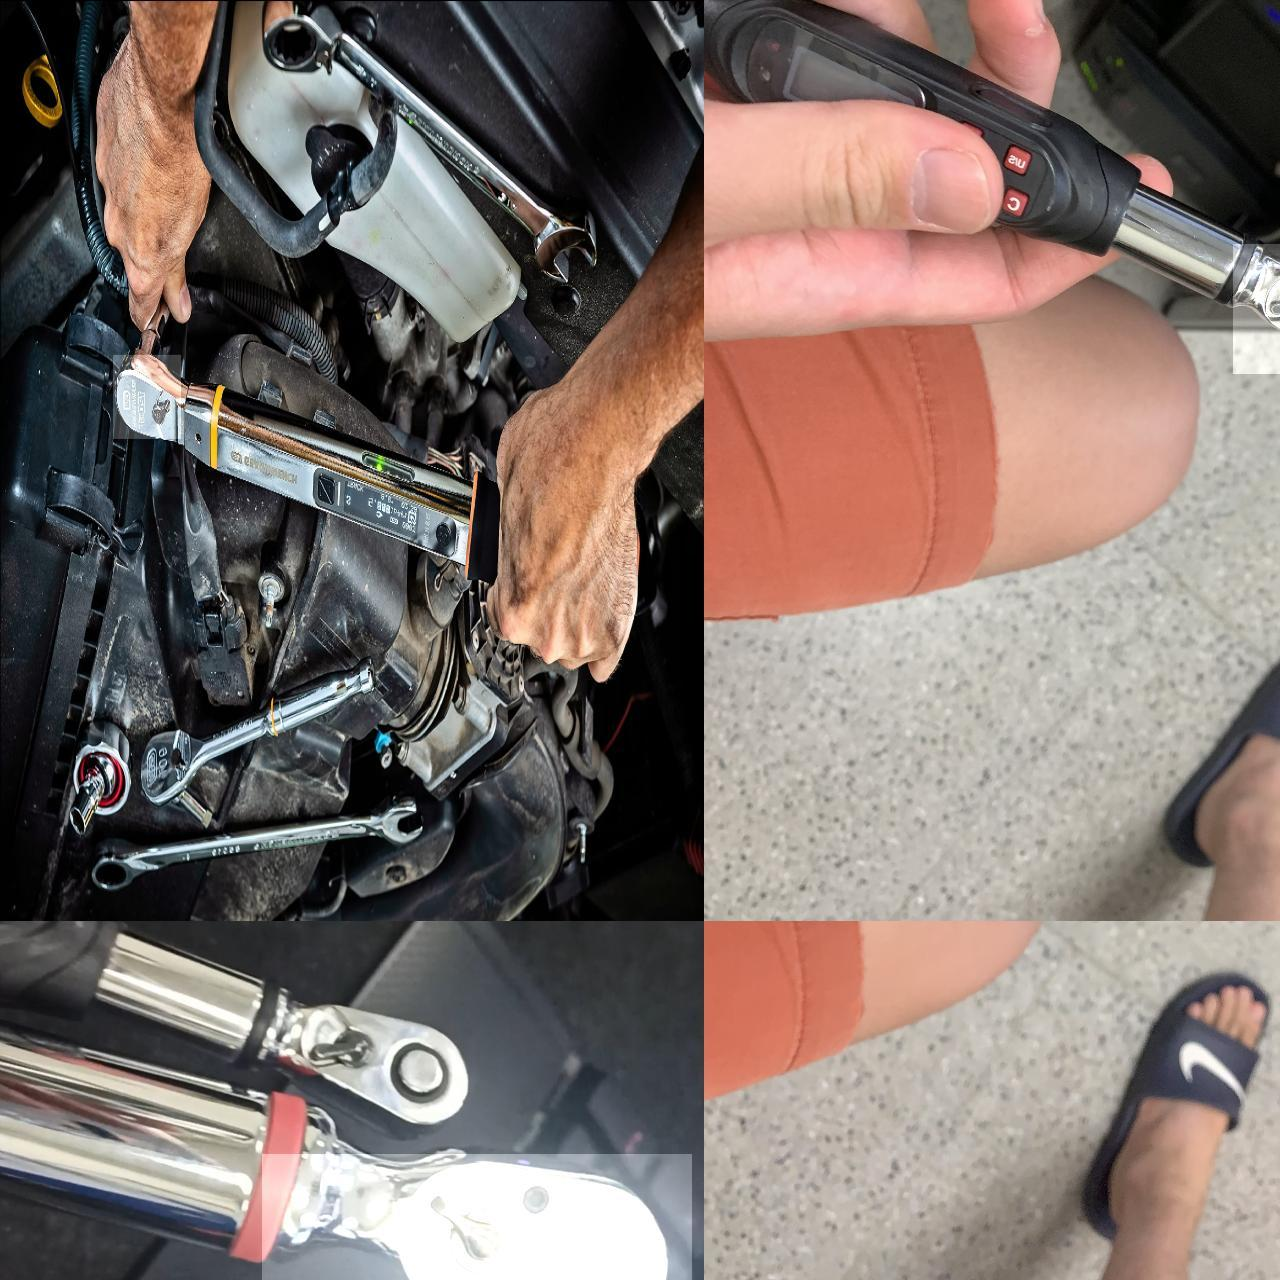Tool: (261, 1153, 692, 1280), (243, 983, 483, 1124), (1232, 243, 1280, 373), (113, 354, 181, 438)
